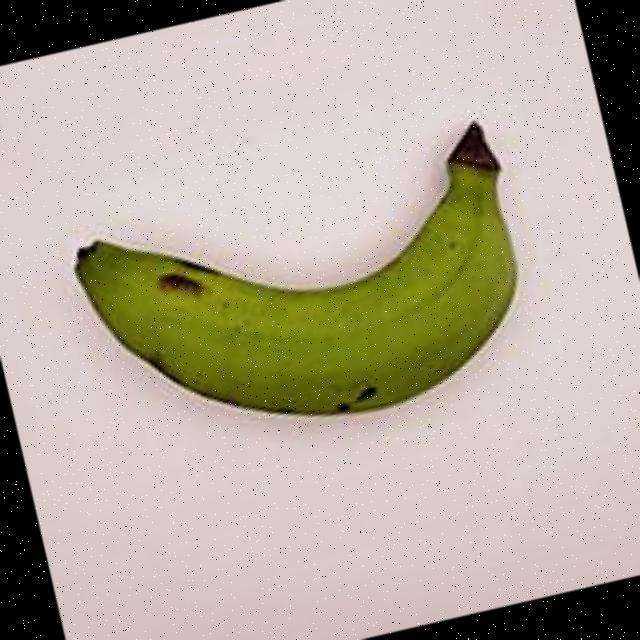Raw: (20, 72, 598, 500)
